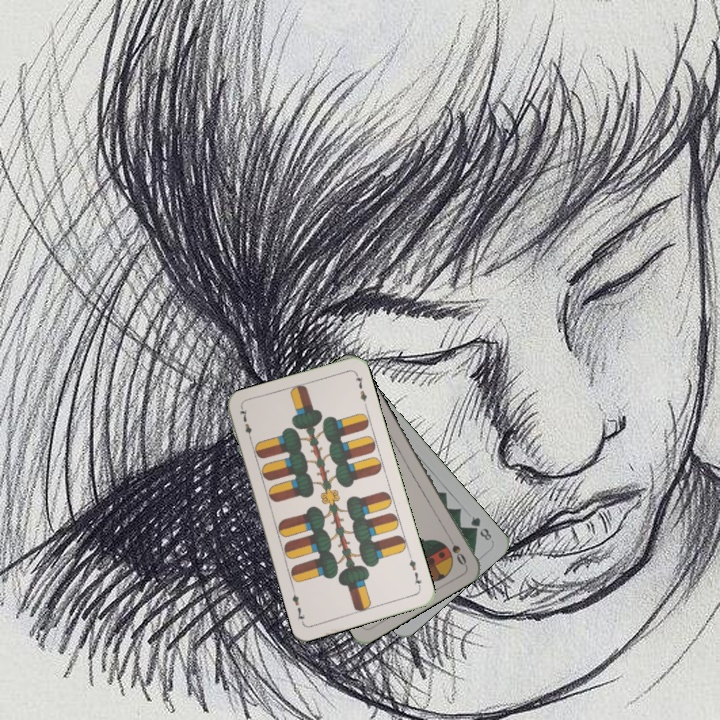E7: (235, 404, 255, 444), (405, 551, 424, 591)
G8: (467, 512, 494, 543)
SO: (443, 531, 469, 568)
